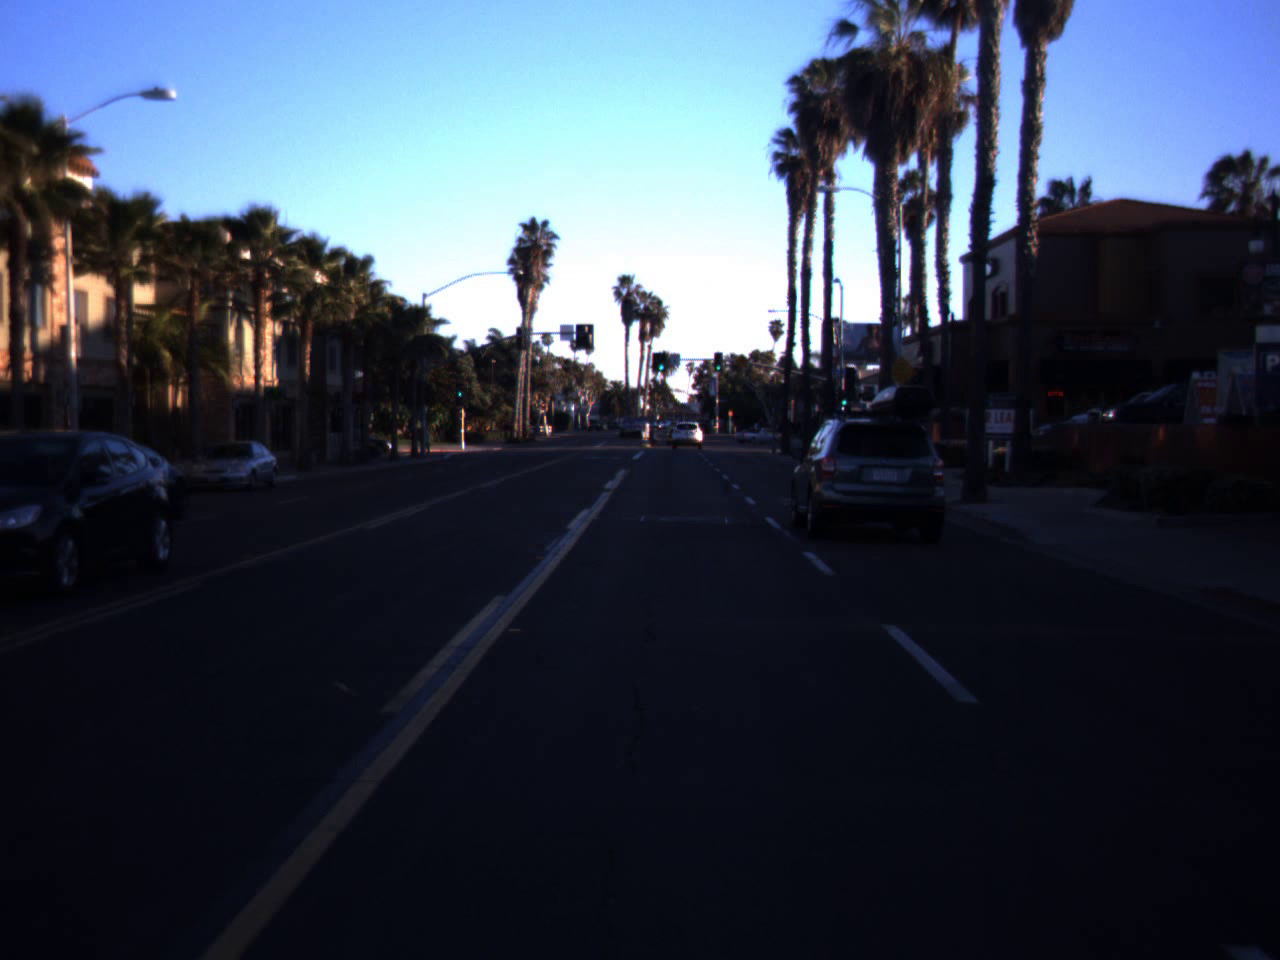go: (838, 386, 850, 406), (655, 351, 667, 371), (712, 352, 724, 372)
